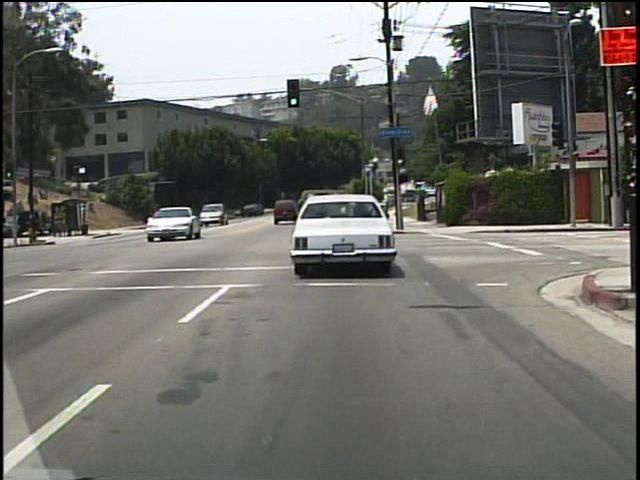person: (158, 209, 166, 229)
